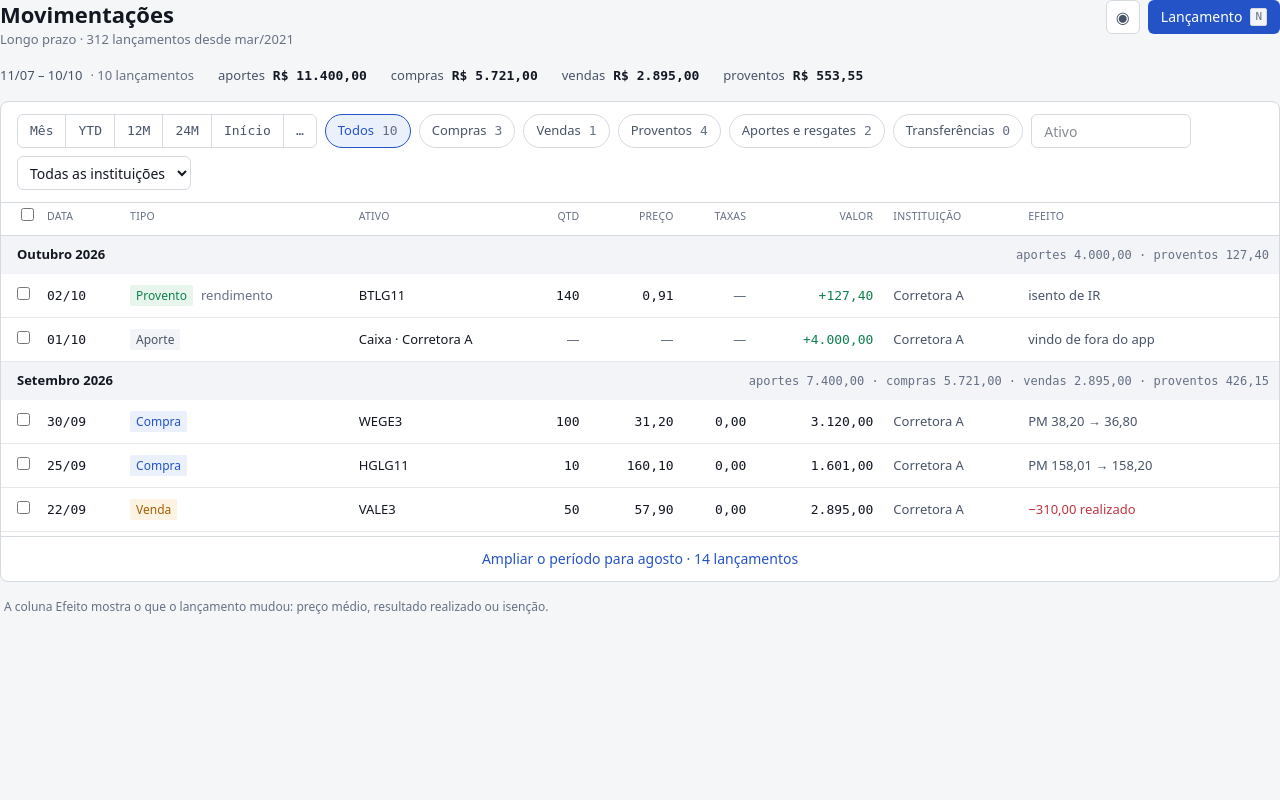
Scenario: tela de Movimentações › mover para outra carteira manda o PATCH com a carteira escolhida
Expected: the column heading "Outubro 2026" is shown, [1,236,528,274]
Click the checkbox named "Selecionar Compra de HGLG11": point(24, 463) [17,457,30,470]
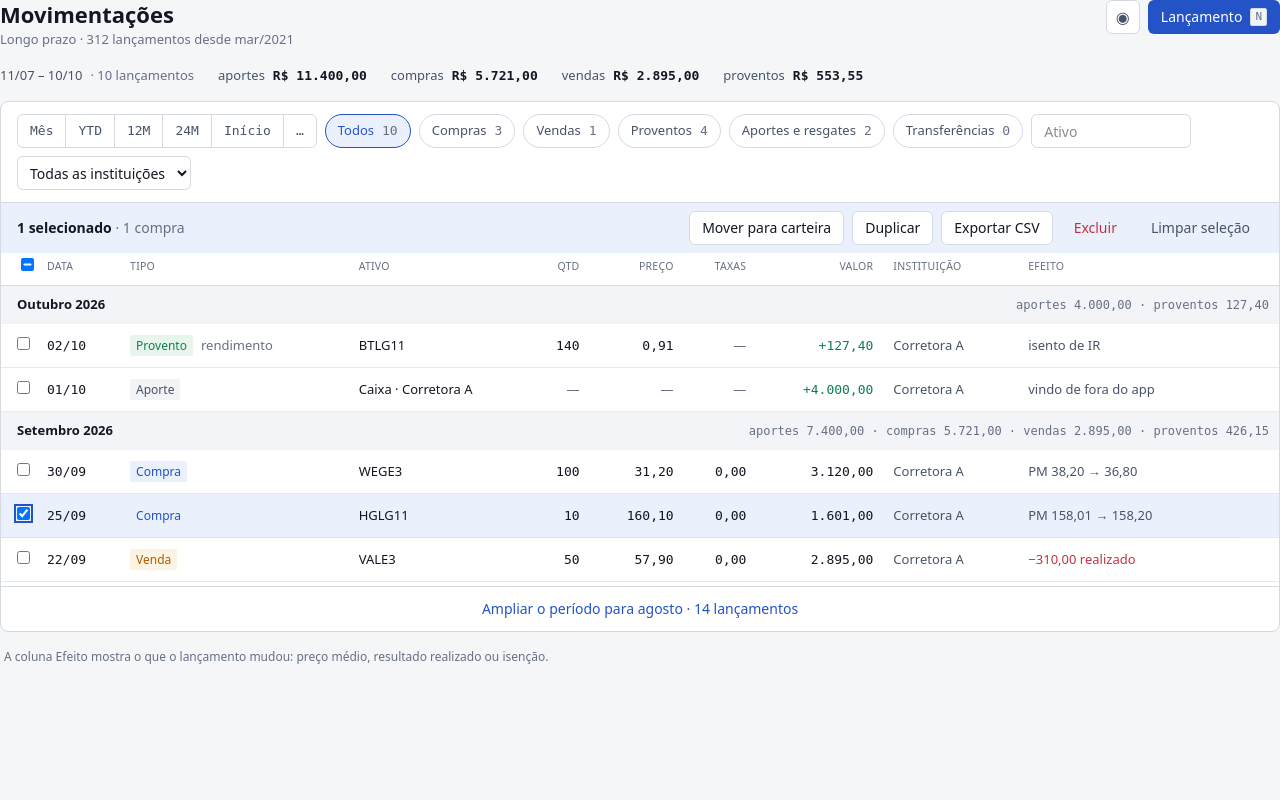
Click the button "Mover para carteira": point(767, 228) [689,211,844,245]
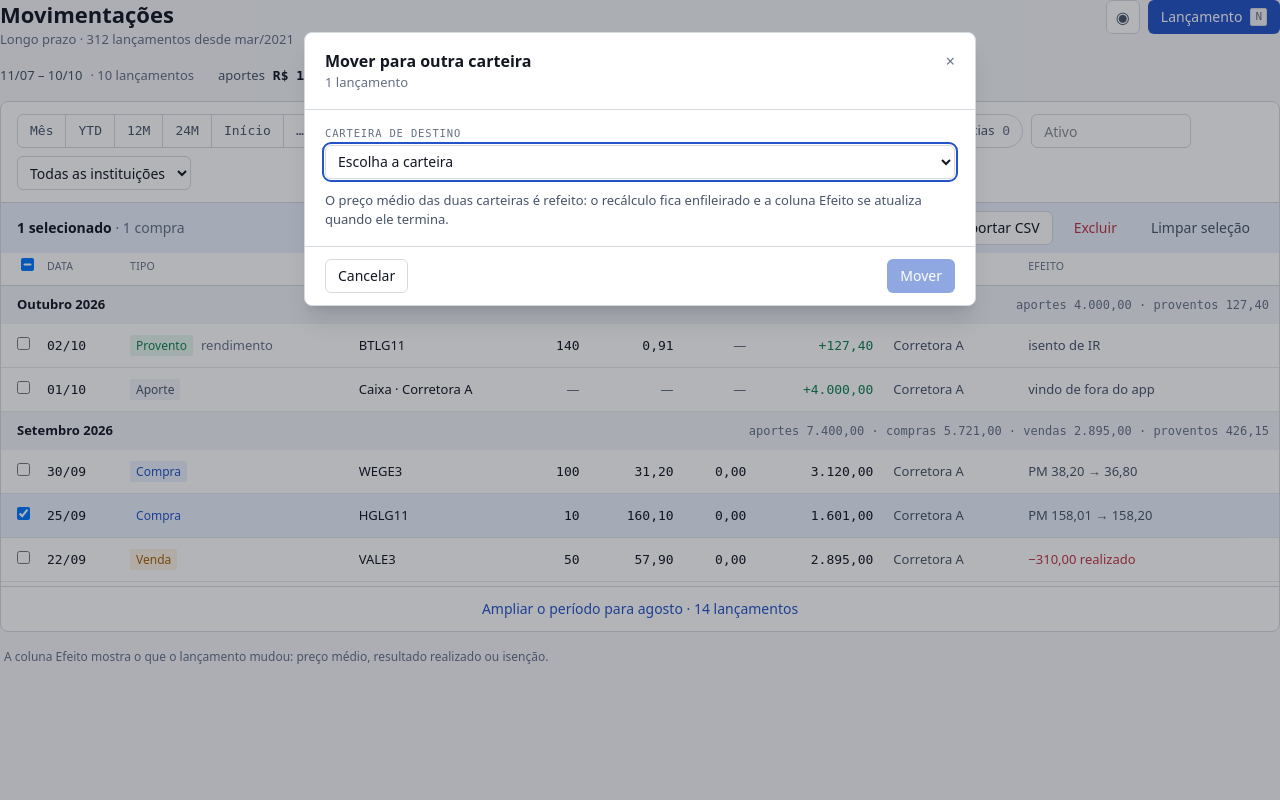
Select "Reserva" in the dropdown: point(640, 162) [325,144,955,178]
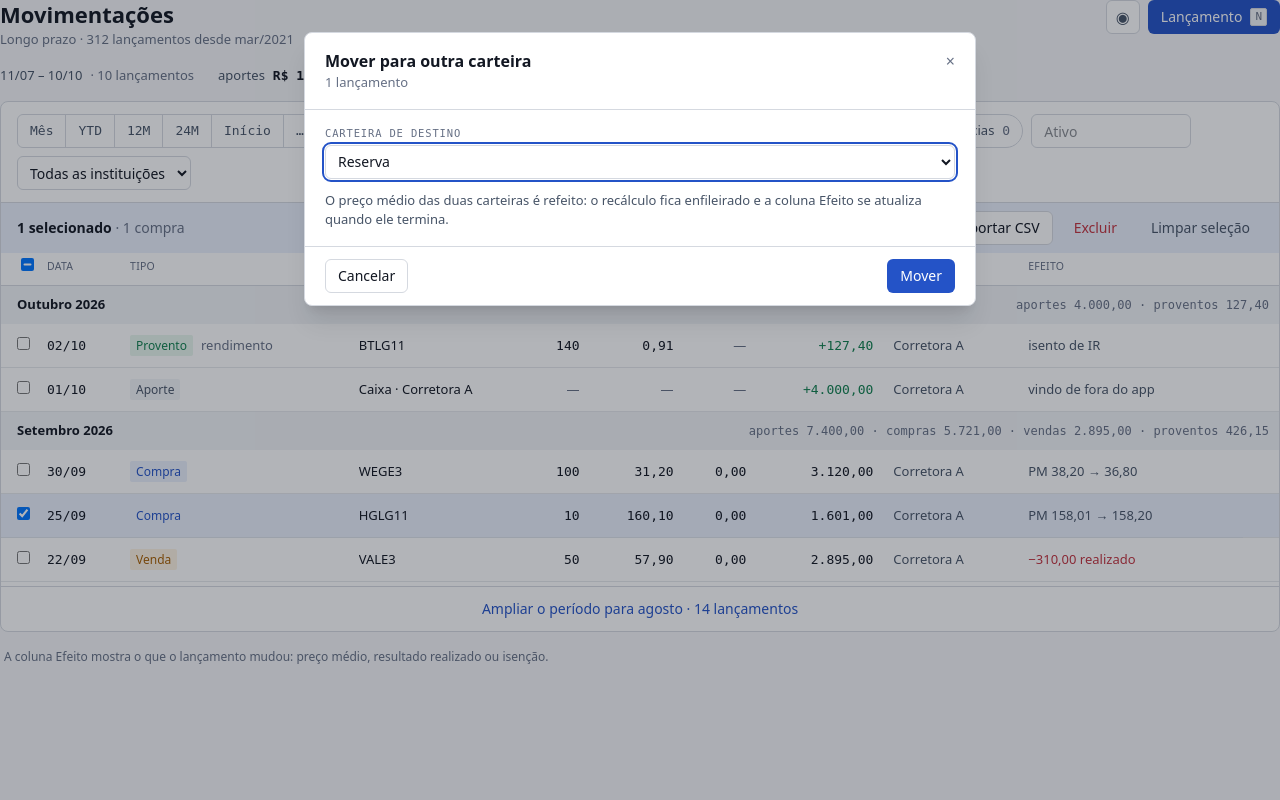
Click the button "Mover": point(921, 276) [887,258,955,292]
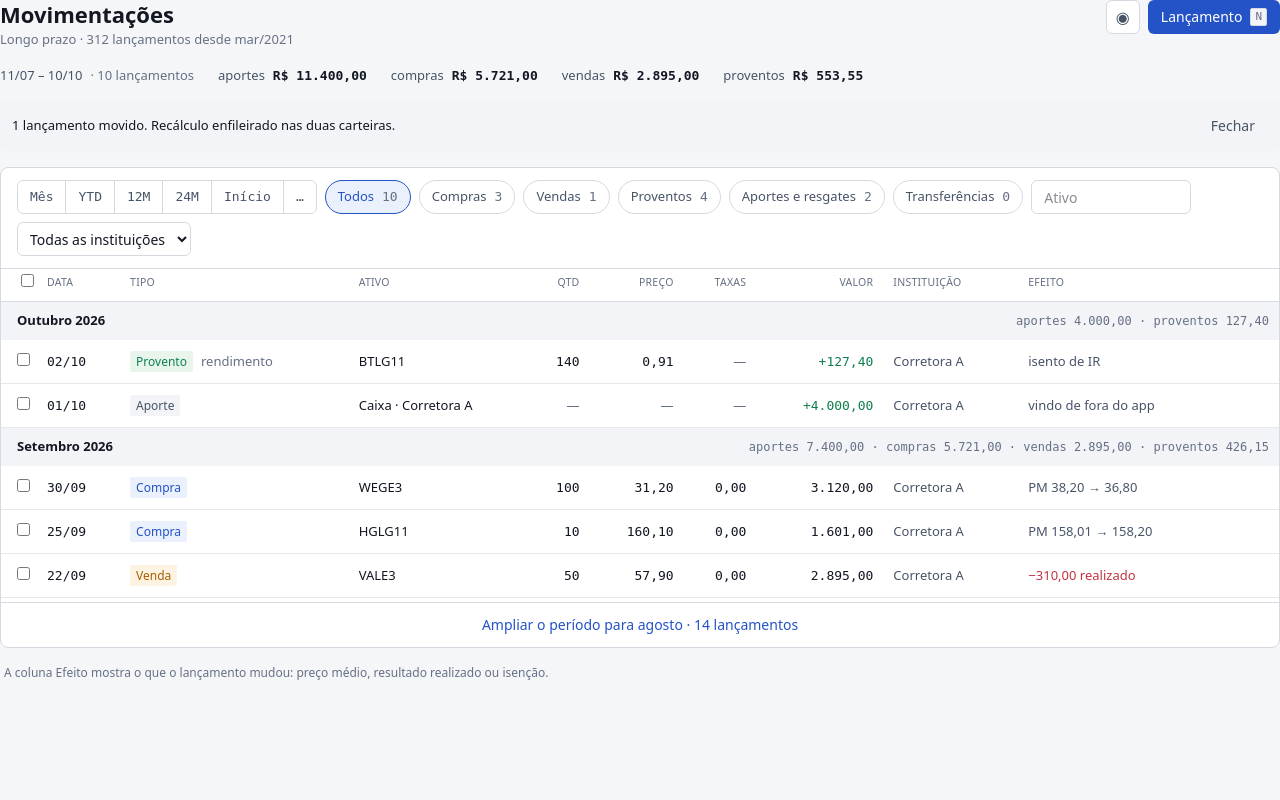
Expected: the text "1 lançamento movido. Recálculo enfileirado" is shown, [12,116,395,134]
